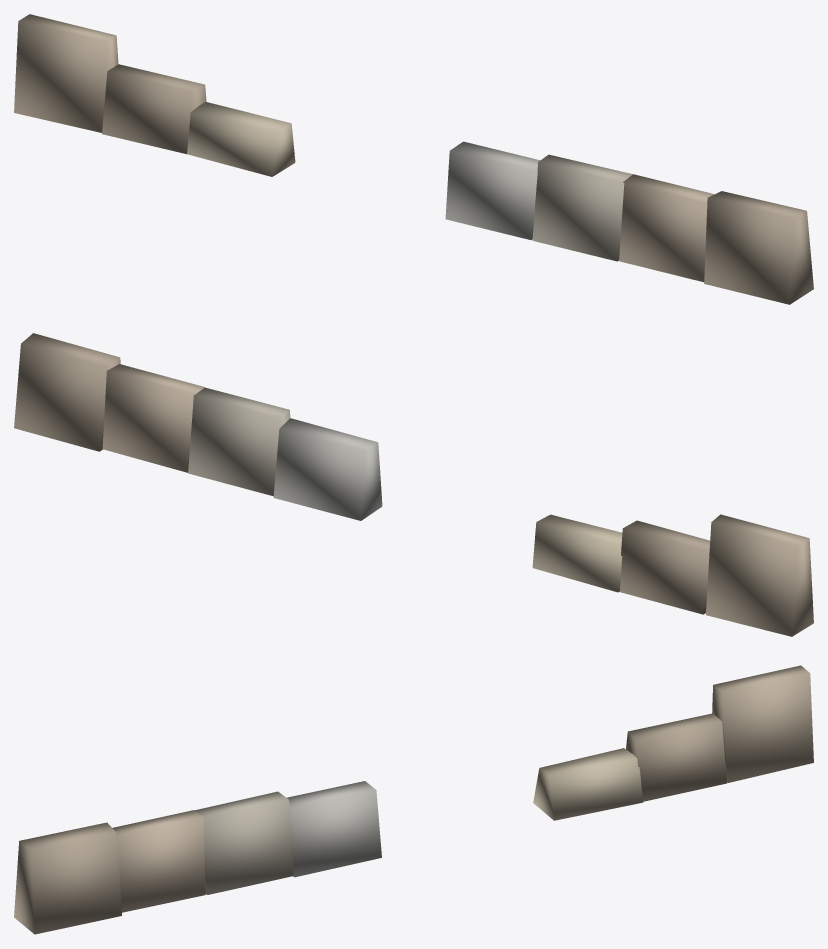
The model's file is farm_3_9_far.glb.
3 views of the same model, one above another, from view 1: azimuth 30°, elevation 25°; view 2: azimuth 210°, elevation 25°; view 3: azimuth 270°, elevation 25° (orthographic). The views are drawn at different scales.
Parts seen in each view (by area): view 1: geometry_0; view 2: geometry_0; view 3: geometry_0.
Part boxes in pixels (bbox=[...]): geometry_0: bbox=[14, 14, 813, 304]; geometry_0: bbox=[14, 333, 813, 636]; geometry_0: bbox=[14, 665, 813, 934].
Size of the model in its own units: 7.35 by 1.58 by 12.73.
